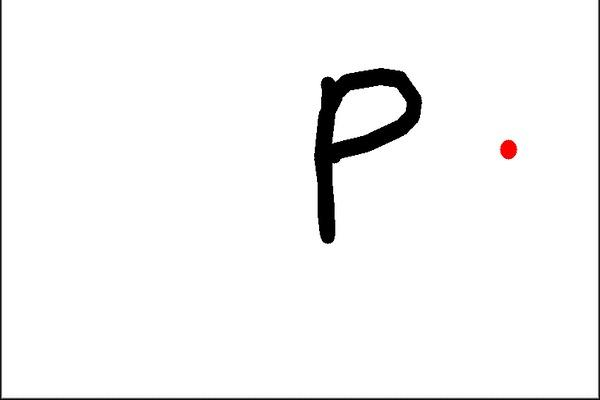P: (298, 56, 427, 252)
